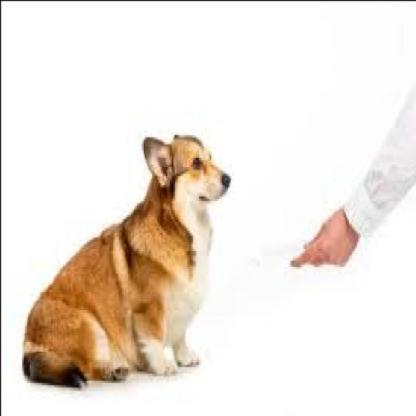dog: (21, 133, 232, 390)
